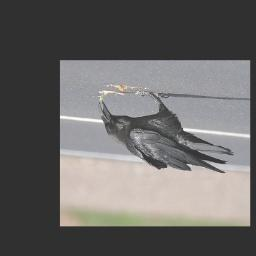Crow: (98, 92, 235, 173)
